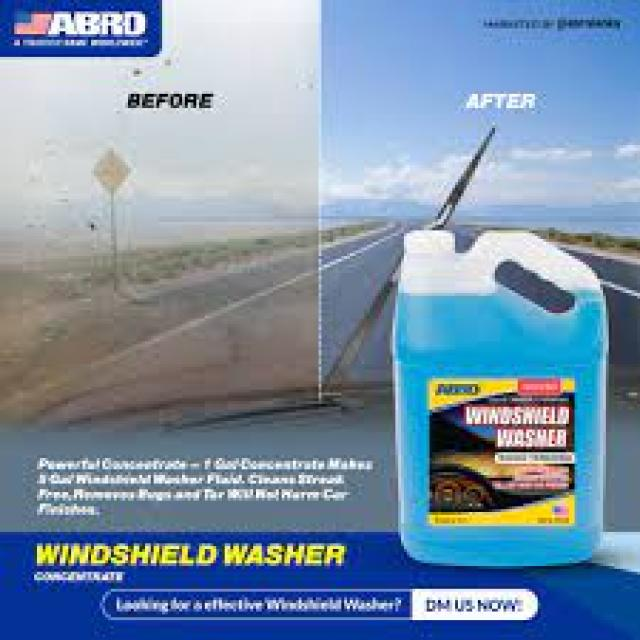winwinshield_washer: (392, 227, 611, 572)
